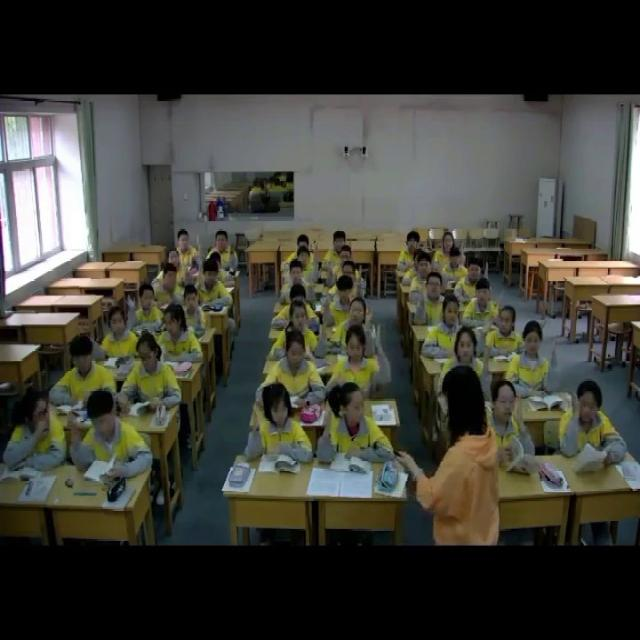distracted: (4, 389, 66, 480)
focused: (49, 334, 118, 411), (264, 332, 326, 407), (122, 332, 180, 410), (422, 294, 471, 358), (158, 305, 208, 362), (486, 304, 529, 358), (94, 309, 136, 361), (151, 266, 186, 312), (319, 230, 349, 270), (280, 260, 311, 298), (162, 247, 190, 288), (410, 255, 437, 297), (397, 232, 424, 272), (436, 230, 459, 269), (293, 246, 319, 279)
raising_hand: (68, 386, 154, 485), (245, 382, 316, 474), (316, 384, 394, 466), (560, 382, 626, 469), (329, 322, 394, 403), (485, 380, 538, 471), (508, 319, 562, 401), (441, 329, 496, 406), (269, 298, 329, 358), (329, 297, 376, 359), (462, 280, 506, 332), (411, 272, 448, 328), (123, 283, 165, 329), (322, 274, 356, 327), (195, 260, 232, 308), (456, 258, 491, 306), (328, 261, 367, 303), (206, 228, 238, 274), (180, 284, 209, 332), (175, 228, 206, 268)
